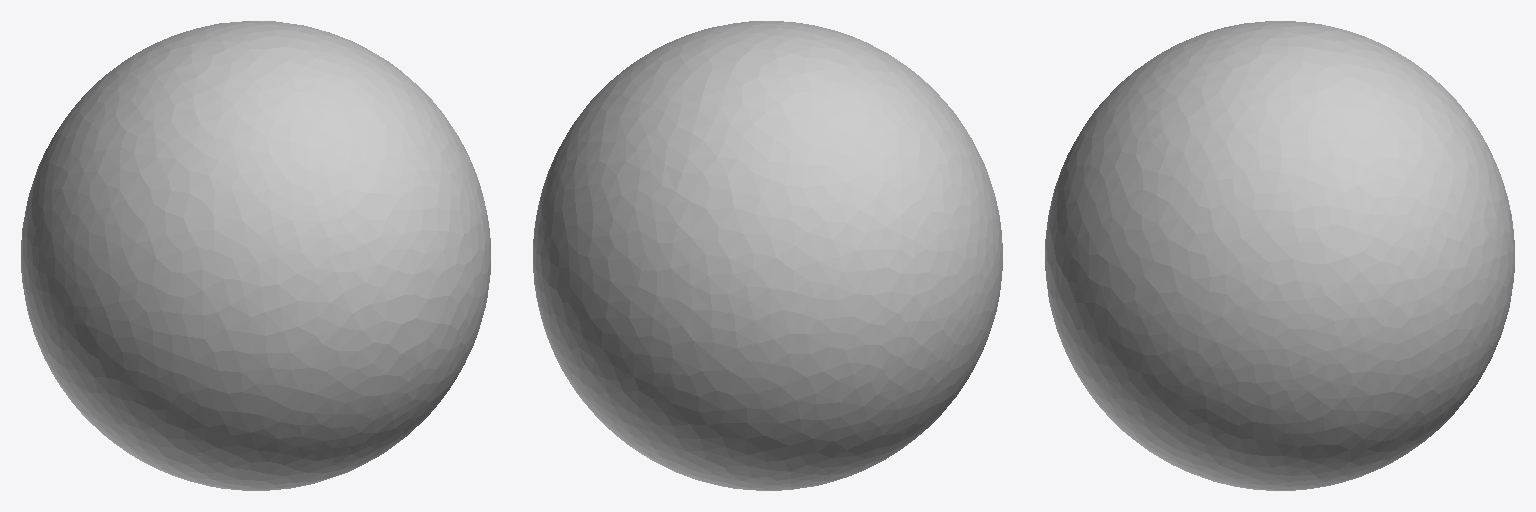
Rendered from core of lyoko.obj.
3 renders of one model, left to right at view 1: azimuth 30°, elevation 25°; view 2: azimuth 150°, elevation 25°; view 3: azimuth 270°, elevation 25°, orthographic.
Visible parts, largest first — view 1: lyoko_core.003; view 2: lyoko_core.003; view 3: lyoko_core.003.
Part boxes in pixels (bbox=[...]): lyoko_core.003: bbox=[21, 21, 490, 490]; lyoko_core.003: bbox=[533, 21, 1002, 490]; lyoko_core.003: bbox=[1045, 21, 1514, 490].
Size of the model in its own units: 7.15 by 7.15 by 7.15.